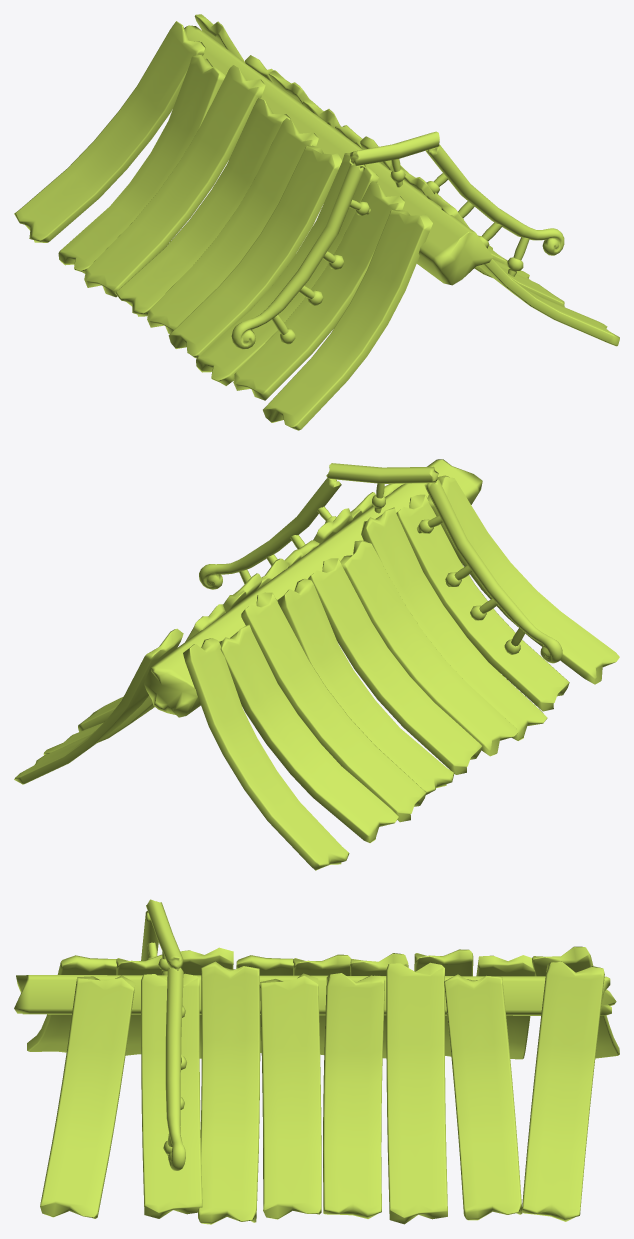
The model's file is Mode_Skatepark.fbx.
3 renders of one model, top to bottom at view 1: azimuth 30°, elevation 25°; view 2: azimuth 150°, elevation 25°; view 3: azimuth 270°, elevation 25°, orthographic. The views are drawn at different scales.
Visible parts, largest first — view 1: skate_park1; view 2: skate_park1; view 3: skate_park1.
Boxes of the visible parts, <box> form: skate_park1: <box>14,14,619,430</box>; skate_park1: <box>14,459,619,870</box>; skate_park1: <box>14,899,619,1224</box>.
Size of the model in its own units: 675 by 400 by 996.
